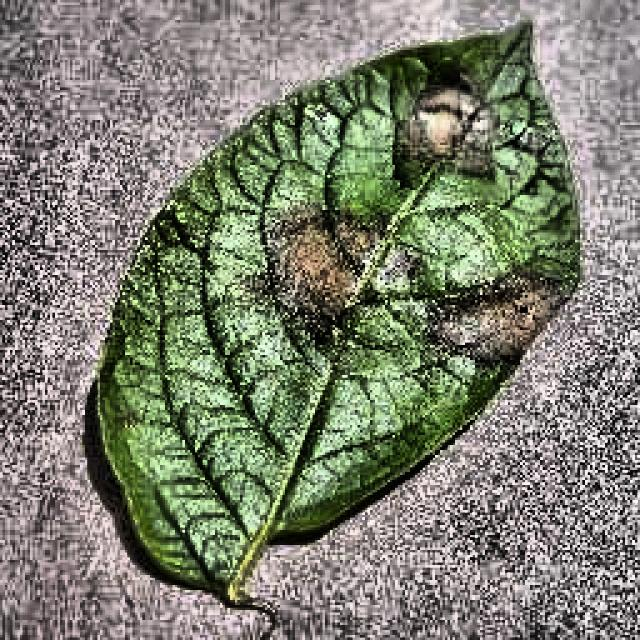Potato_leaf_late_blight: (95, 25, 578, 600)
